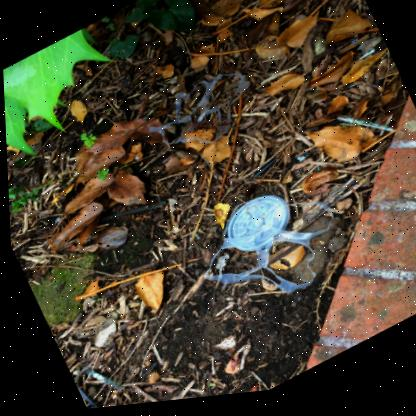Metal: (212, 258, 225, 278)
Plastic: (201, 205, 330, 298), (146, 77, 247, 147), (224, 200, 286, 256), (263, 246, 309, 290), (204, 78, 238, 113), (333, 122, 392, 140), (181, 115, 216, 145), (79, 368, 119, 393), (160, 123, 188, 146), (350, 56, 373, 69)
Waste: (95, 204, 163, 223), (249, 163, 273, 182)
